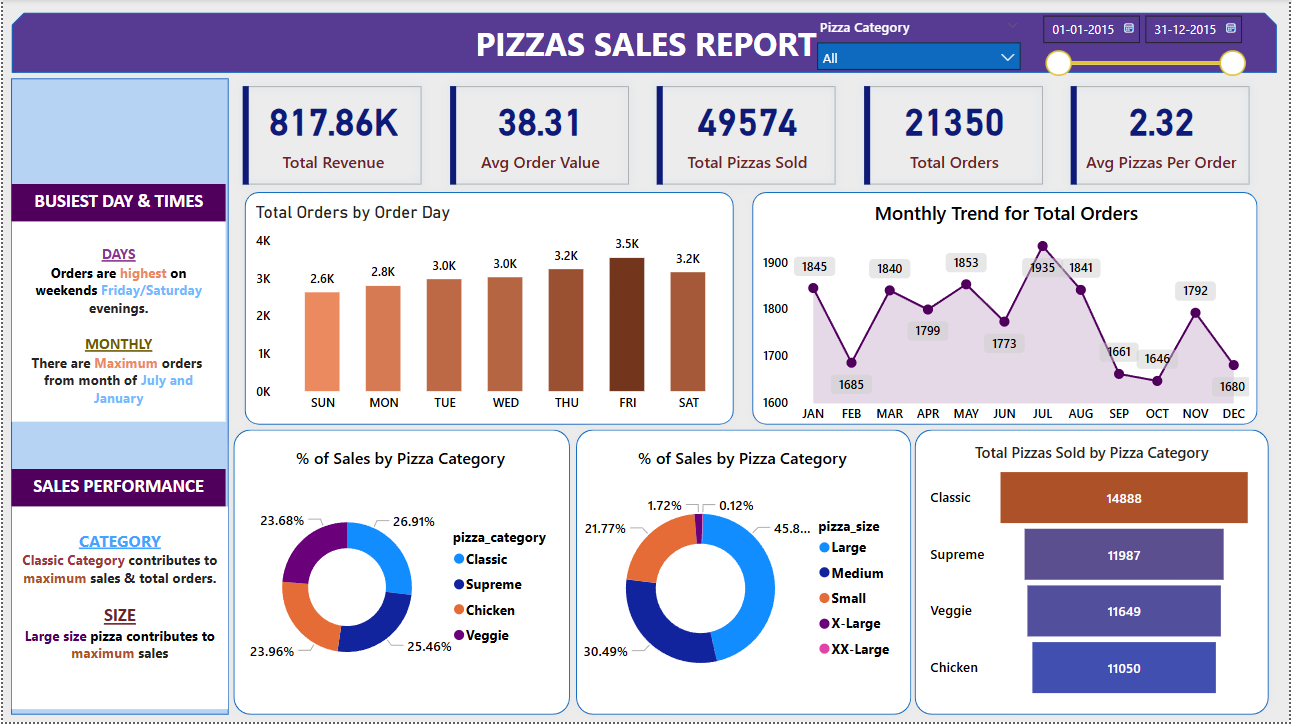

Layout of this report page (visuals, bound fields, positions):
{"tool":"powerbi","page":{"name":"Page 1","canvas":[1280,720],"ordinal":0},"visuals":[{"type":"shape","box":[0,70.9,232.6,649.3],"z":0},{"type":"textbox","box":[8.7,184.1,212.7,37.3],"z":1000},{"type":"cardVisual","fields":{"Data":["pizza_sales.Total Revenue","pizza_sales.Avg Order Value","pizza_sales.Total Pizzas Sold","pizza_sales.Total Orders","pizza_sales.Avg Pizzas Per Order"]},"box":[202.8,70.9,1077.3,130.6],"z":2000},{"type":"shape","box":[8.7,13.7,1258.9,59.7],"z":3000},{"type":"textbox","box":[465.2,17.4,364.5,53.5],"z":4000},{"type":"shape","box":[737.7,184.1,518.7,247.5],"z":5000},{"type":"areaChart","title":"Monthly Trend for Total Orders","fields":{"Category":["pizza_sales.Order Month"],"Y":["pizza_sales.Total Orders"]},"box":[751.4,200.3,493.9,231.4],"z":6000},{"type":"shape","box":[221.4,420.5,350.8,299.8],"z":7000},{"type":"shape","box":[232.6,184.1,502.6,247.5],"z":8000},{"type":"donutChart","title":"% of Sales by Pizza Category","fields":{"Category":["pizza_sales.pizza_category"],"Y":["pizza_sales.Total Revenue"]},"box":[232.6,445.3,325.9,258.7],"z":9000},{"type":"shape","box":[562.3,420.5,349.6,299.8],"z":10000},{"type":"textbox","box":[8.7,221.4,212.7,199],"z":11000},{"type":"donutChart","title":"% of Sales by Pizza Category","fields":{"Y":["pizza_sales.Total Revenue"],"Category":["pizza_sales.pizza_size"]},"box":[572.2,445.3,327.2,261.2],"z":12000},{"type":"shape","box":[899.4,420.5,368.2,299.8],"z":13000},{"type":"columnChart","fields":{"Category":["pizza_sales.Order Day"],"Y":["pizza_sales.Total Orders"]},"box":[246.3,201.5,483.9,218.9],"z":14000},{"type":"funnel","title":"Total Pizzas Sold by Pizza Category","fields":{"Category":["pizza_sales.pizza_category"],"Y":["pizza_sales.Total Pizzas Sold"]},"box":[918,440.4,330.9,261.2],"z":15000},{"type":"textbox","box":[8.7,467.7,212.7,37.3],"z":16000},{"type":"textbox","box":[8.7,505,215.2,201.5],"z":17000},{"type":"slicer","fields":{"Values":["pizza_sales.order_date"]},"box":[1022.5,6.2,222.7,82.1],"z":18000},{"type":"slicer","fields":{"Values":["pizza_sales.pizza_category"]},"box":[799.9,13.7,222.7,57.2],"z":19000}]}

Visuals, with their boxes in screenshot pixels (x1, y1, x2, y2), scaled from the page's 1280x720 canvas onto the 1292x724 screenshot:
shape: [0, 71, 235, 723]
textbox: [9, 185, 223, 223]
cardVisual - pizza_sales.Total Revenue x pizza_sales.Avg Order Value: [205, 71, 1291, 203]
shape: [9, 14, 1279, 74]
textbox: [470, 17, 837, 71]
shape: [745, 185, 1268, 434]
"Monthly Trend for Total Orders" areaChart: [758, 201, 1257, 434]
shape: [223, 423, 578, 723]
shape: [235, 185, 742, 434]
"% of Sales by Pizza Category" donutChart: [235, 448, 564, 708]
shape: [568, 423, 920, 723]
textbox: [9, 223, 223, 423]
"% of Sales by Pizza Category" donutChart: [578, 448, 908, 710]
shape: [908, 423, 1279, 723]
columnChart - pizza_sales.Order Day x pizza_sales.Total Orders: [249, 203, 737, 423]
"Total Pizzas Sold by Pizza Category" funnel: [927, 443, 1261, 705]
textbox: [9, 470, 223, 508]
textbox: [9, 508, 226, 710]
slicer - pizza_sales.order_date: [1032, 6, 1257, 89]
slicer - pizza_sales.pizza_category: [807, 14, 1032, 71]
